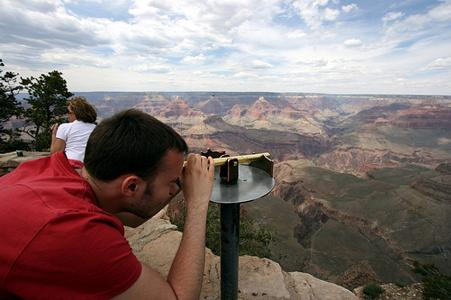person: (3, 112, 213, 300)
